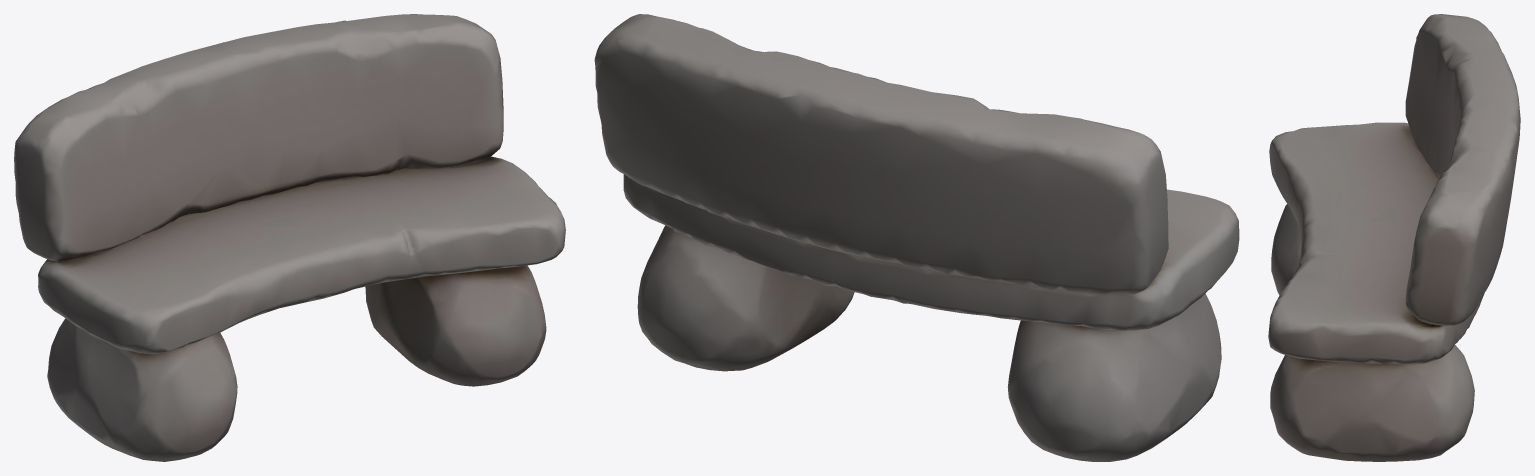
The model's file is stone-bench.glb.
3 views of the same model, side by side, from view 1: azimuth 30°, elevation 25°; view 2: azimuth 150°, elevation 25°; view 3: azimuth 270°, elevation 25° (orthographic). The views are drawn at different scales.
Parts seen in each view (by area): view 1: Stone Bench; view 2: Stone Bench; view 3: Stone Bench.
Boxes of the visible parts, bbox=[...] form: Stone Bench: bbox=[14, 14, 565, 461]; Stone Bench: bbox=[594, 14, 1239, 461]; Stone Bench: bbox=[1268, 14, 1520, 461].
Size of the model in its own units: 0.998 by 0.6035 by 0.5059.
1 material, 1 textured.
